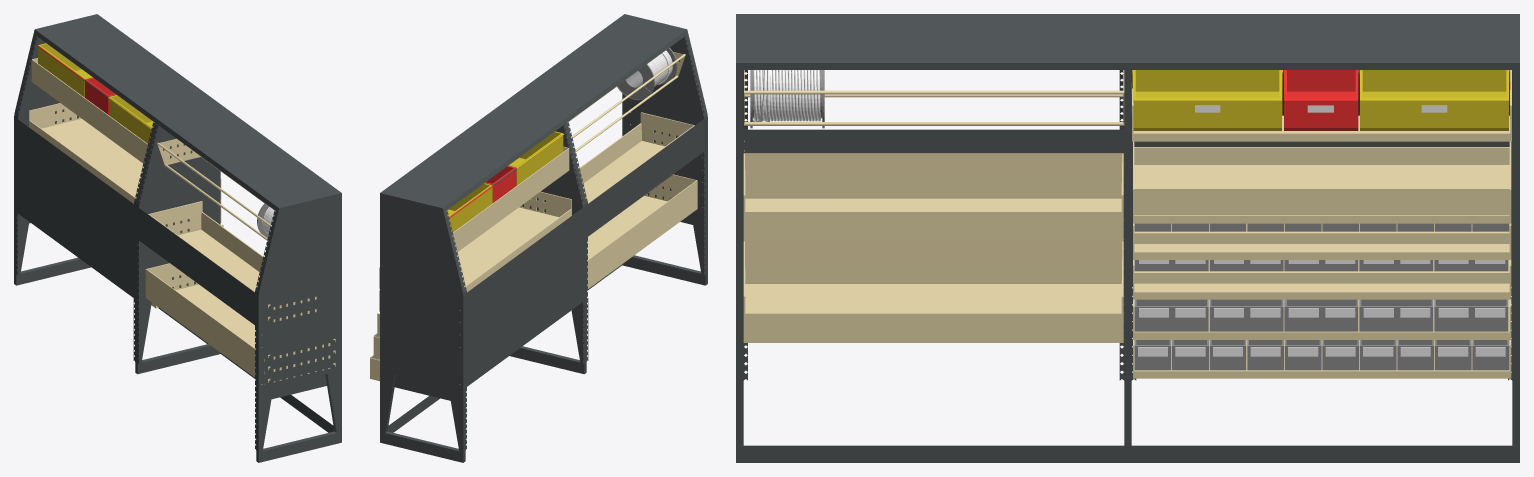
Rendered from TechniciansKit–LongBays.fbx.
The picture shows the model from 3 angles, left to right: view 1: azimuth 30°, elevation 25°; view 2: azimuth 150°, elevation 25°; view 3: azimuth 270°, elevation 25°; orthographic projection. The views are drawn at different scales.
Parts seen in each view (by area): view 1: Steel, Cream_Paint, Yellow, RED_Plastic; view 2: Steel, Cream_Paint, Yellow, Gray_Plastic, RED_Plastic, White; view 3: Cream_Paint, Steel, Gray_Plastic, Yellow, White, RED_Plastic.
Boxes of the visible parts, box(x1,y1,x2,y2) form: Steel: box(14, 14, 341, 462); Cream_Paint: box(29, 58, 335, 384); Yellow: box(38, 43, 154, 143); RED_Plastic: box(37, 45, 116, 114); Steel: box(380, 14, 707, 462); Cream_Paint: box(370, 52, 697, 384); Yellow: box(446, 131, 564, 232); Gray_Plastic: box(370, 47, 677, 372); RED_Plastic: box(449, 166, 516, 218); White: box(647, 50, 672, 86); Cream_Paint: box(743, 70, 1511, 378); Steel: box(736, 14, 1519, 462); Gray_Plastic: box(750, 70, 1509, 370); Yellow: box(1131, 70, 1508, 130); White: box(752, 70, 1505, 356); RED_Plastic: box(1284, 70, 1510, 130).
Bounding box in the file's own units: 471 × 1160 × 2060.
